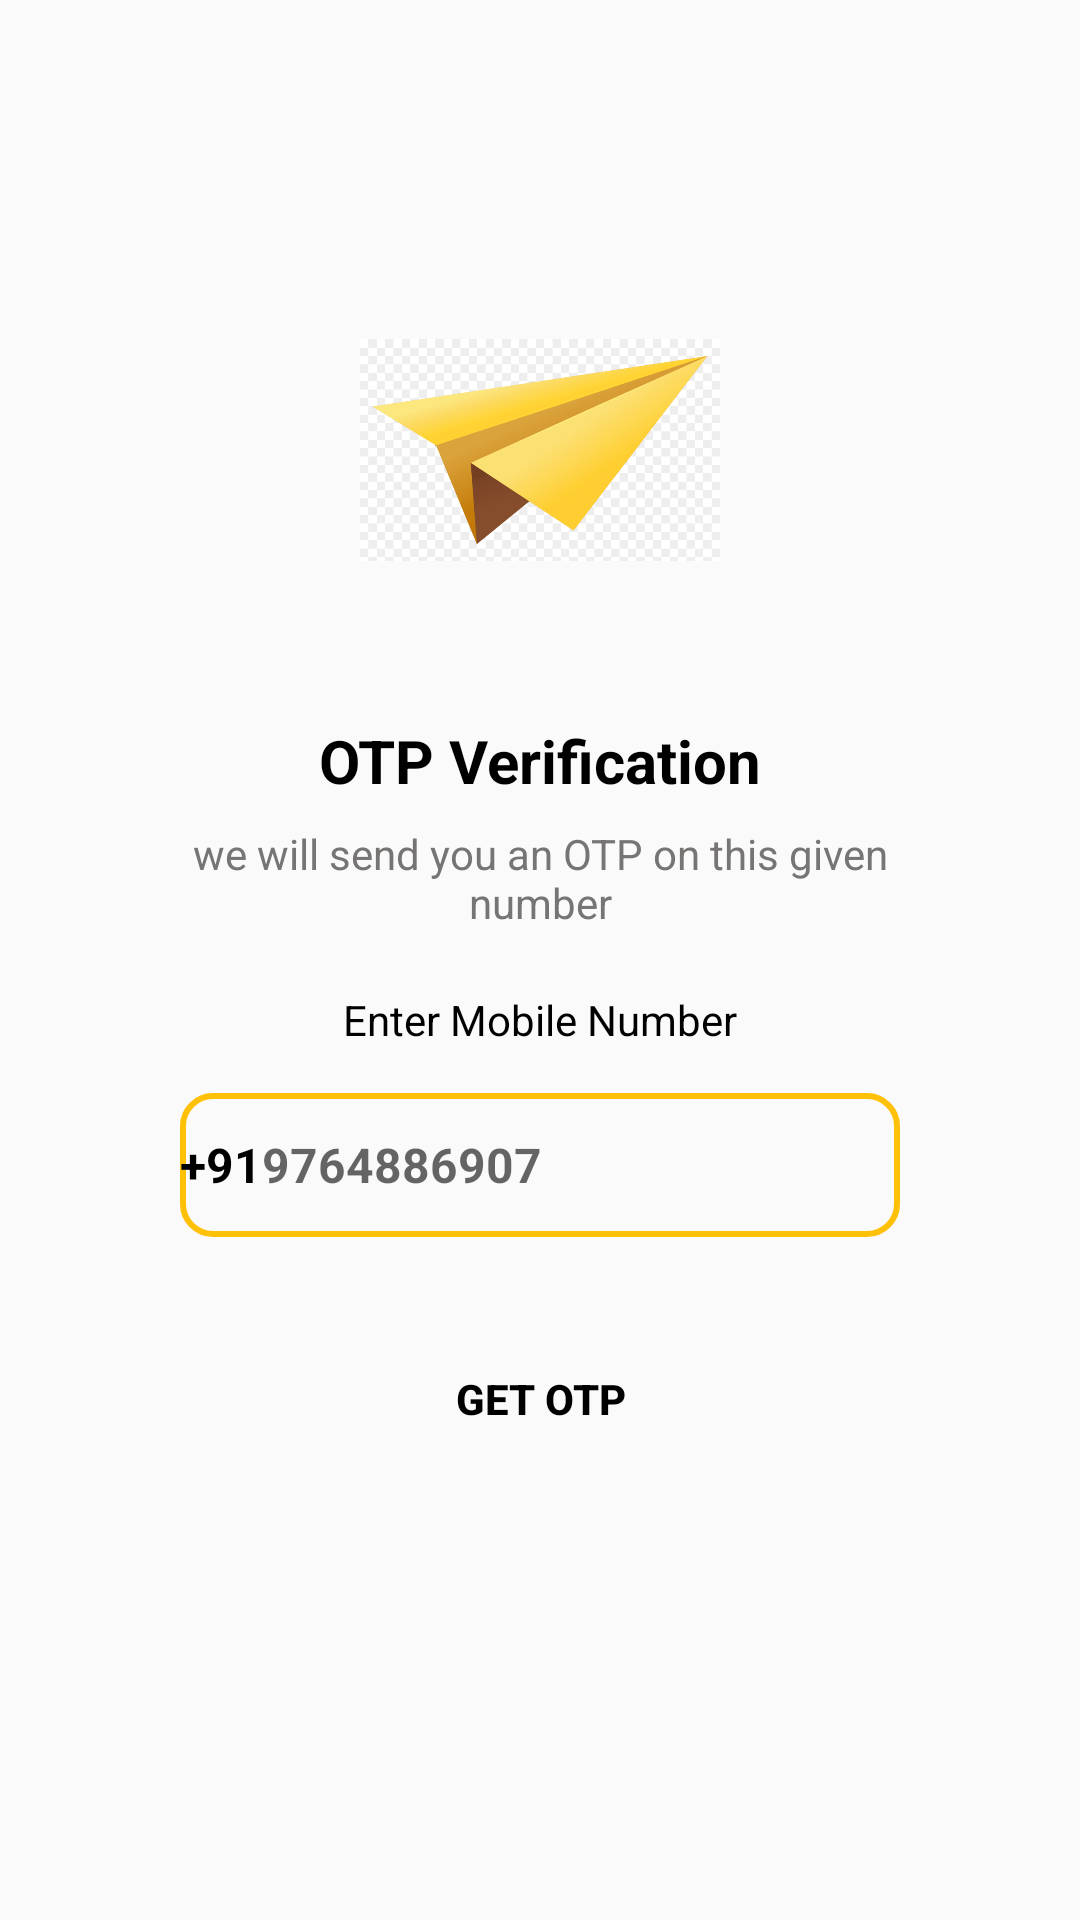

Locate icon controls on the screen. Image size 1080 × 1920, boxes as (x1, y1, x2, y2).
sendmessage: (372, 356, 708, 544)
